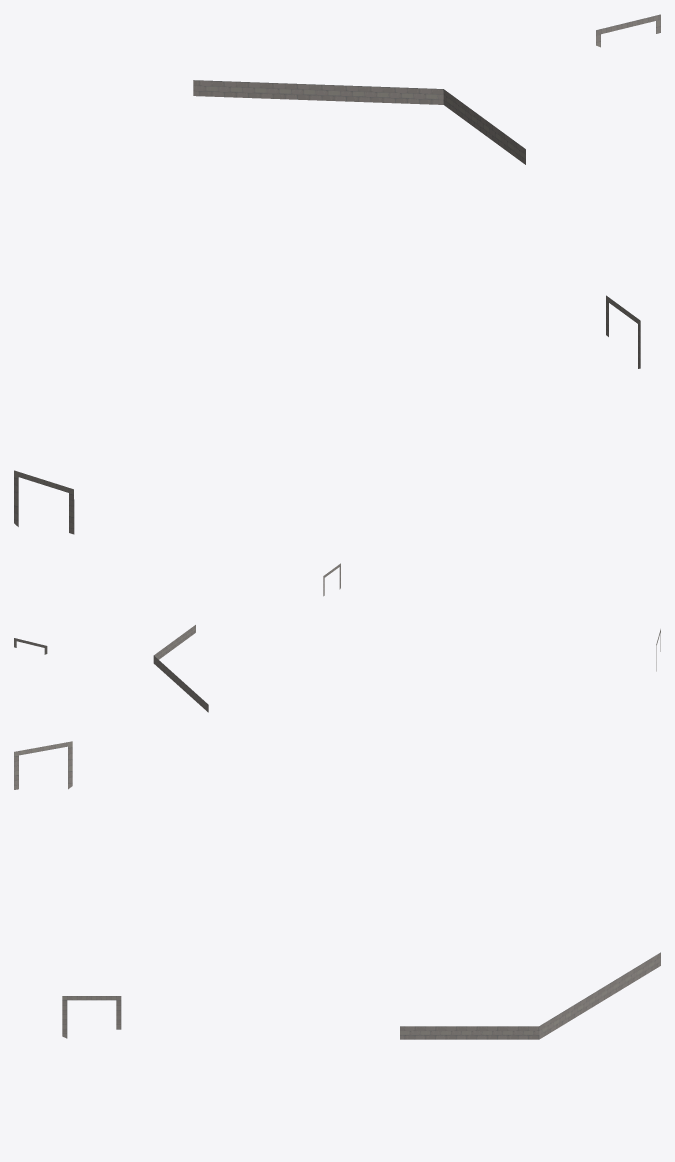
File: kd_stage_135fe0_3_17_bounded.glb
3 views of the same model, one above another, from view 1: azimuth 30°, elevation 25°; view 2: azimuth 150°, elevation 25°; view 3: azimuth 270°, elevation 25° (orthographic). The views are drawn at different scales.
Visible parts, largest first — view 1: kd_stage_135fe0_3_17_bounded; view 2: kd_stage_135fe0_3_17_bounded; view 3: kd_stage_135fe0_3_17_bounded.
Boxes of the visible parts, x1,y1,x2,y2 form: kd_stage_135fe0_3_17_bounded: (14,14,660,534); kd_stage_135fe0_3_17_bounded: (14,563,660,712); kd_stage_135fe0_3_17_bounded: (14,741,660,1039).
Size of the model in its own units: 37.4 by 2.4 by 26.02.
1 material, 1 textured.
